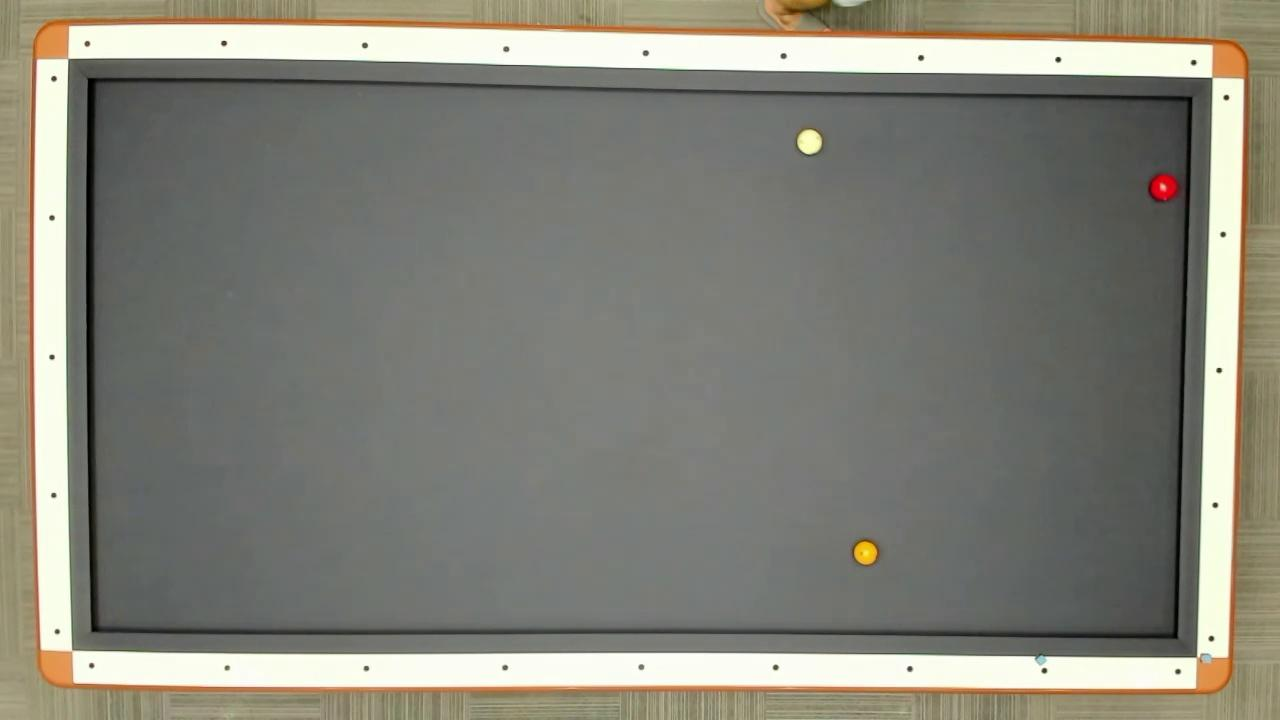Red: (1149, 172, 1179, 202)
White: (794, 126, 824, 156)
Yellow: (850, 540, 880, 570)
